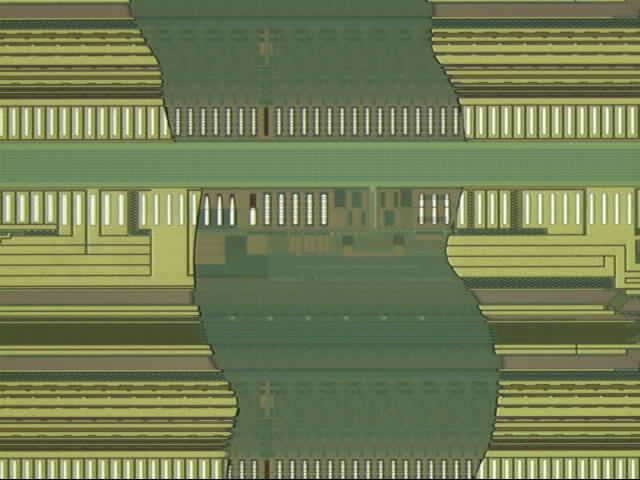COATING BAD: (124, 1, 512, 480)
